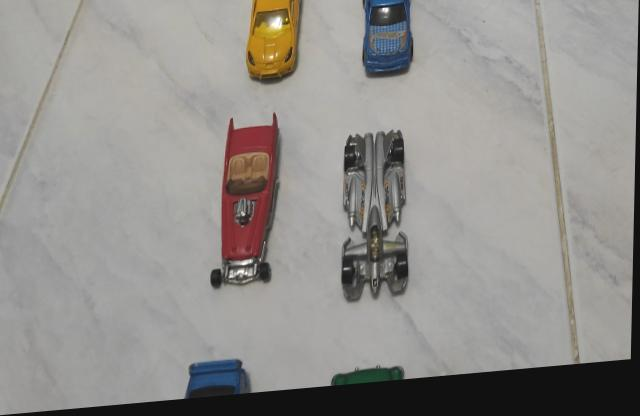03_V8: (211, 118, 283, 295)
04_MERZEDES: (362, 0, 414, 87), (184, 364, 253, 403)
06_MASERATI: (330, 371, 408, 392)
07_RHLTURBO: (246, 0, 305, 92)
